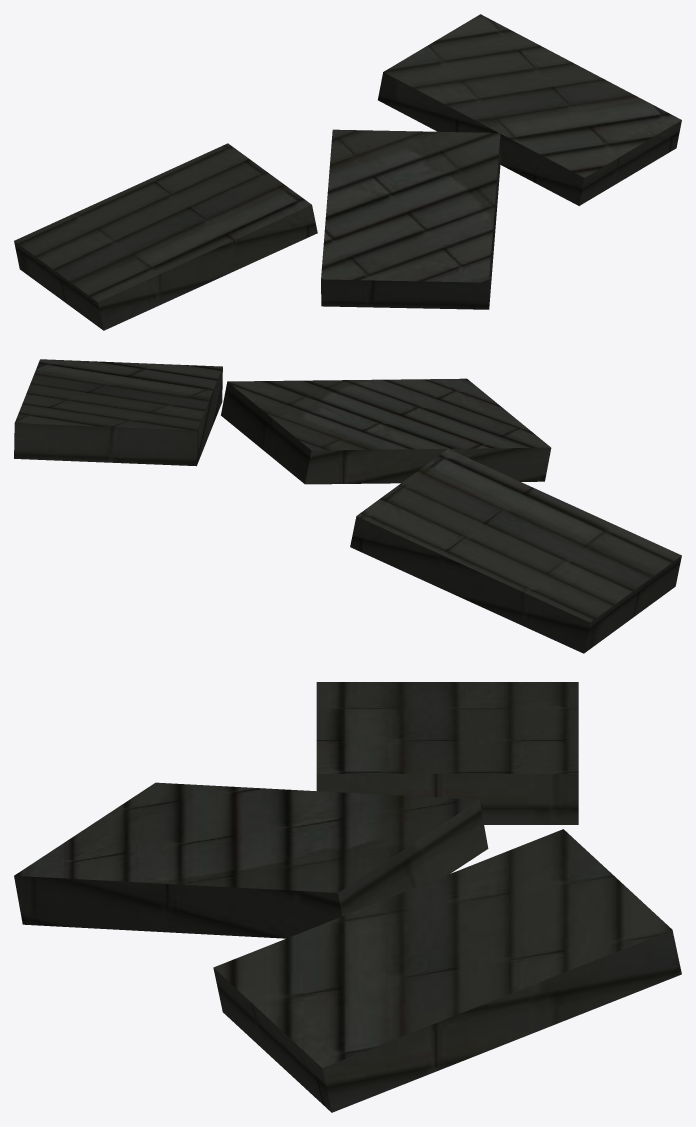
File: roof_tile_shards_01.glb
3 views of the same model, one above another, from view 1: azimuth 30°, elevation 25°; view 2: azimuth 150°, elevation 25°; view 3: azimuth 270°, elevation 25° (orthographic). The views are drawn at different scales.
Parts seen in each view (by area): view 1: roof_tile_shards_01; view 2: roof_tile_shards_01; view 3: roof_tile_shards_01.
Part boxes in pixels (x1,y1,x2,y2): roof_tile_shards_01: [14, 14, 681, 330]; roof_tile_shards_01: [14, 359, 681, 653]; roof_tile_shards_01: [14, 682, 681, 1112].
Size of the model in its own units: 1.61 by 0.2976 by 1.02.
1 material, 1 textured.
